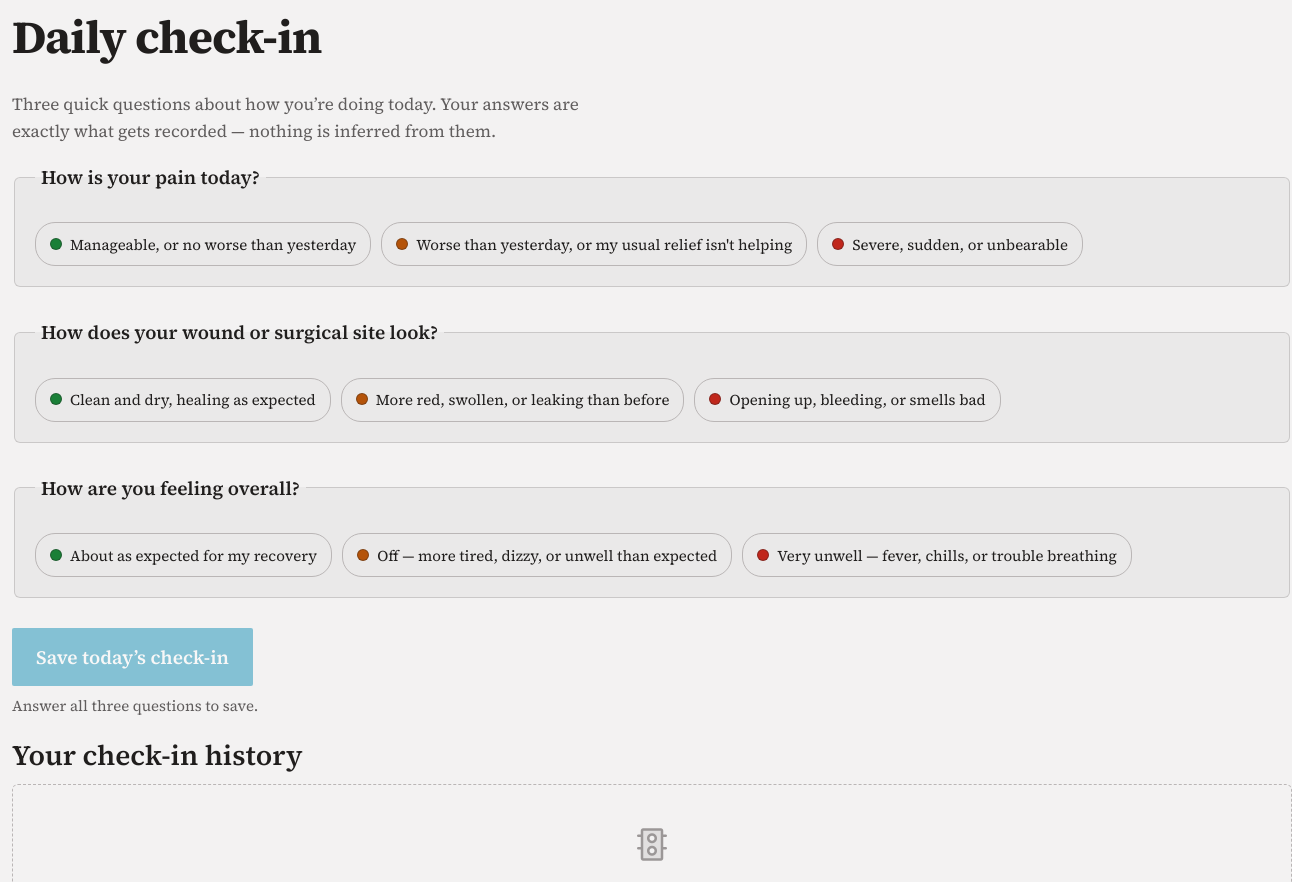
Test case: CheckIn screen › keeps save disabled until every question is answered
Expected: the button "Save today’s check-in" is disabled, [12,628,253,686]
Click the button "Manageable, or no worse than yesterday": (203, 244) [35,222,371,266]
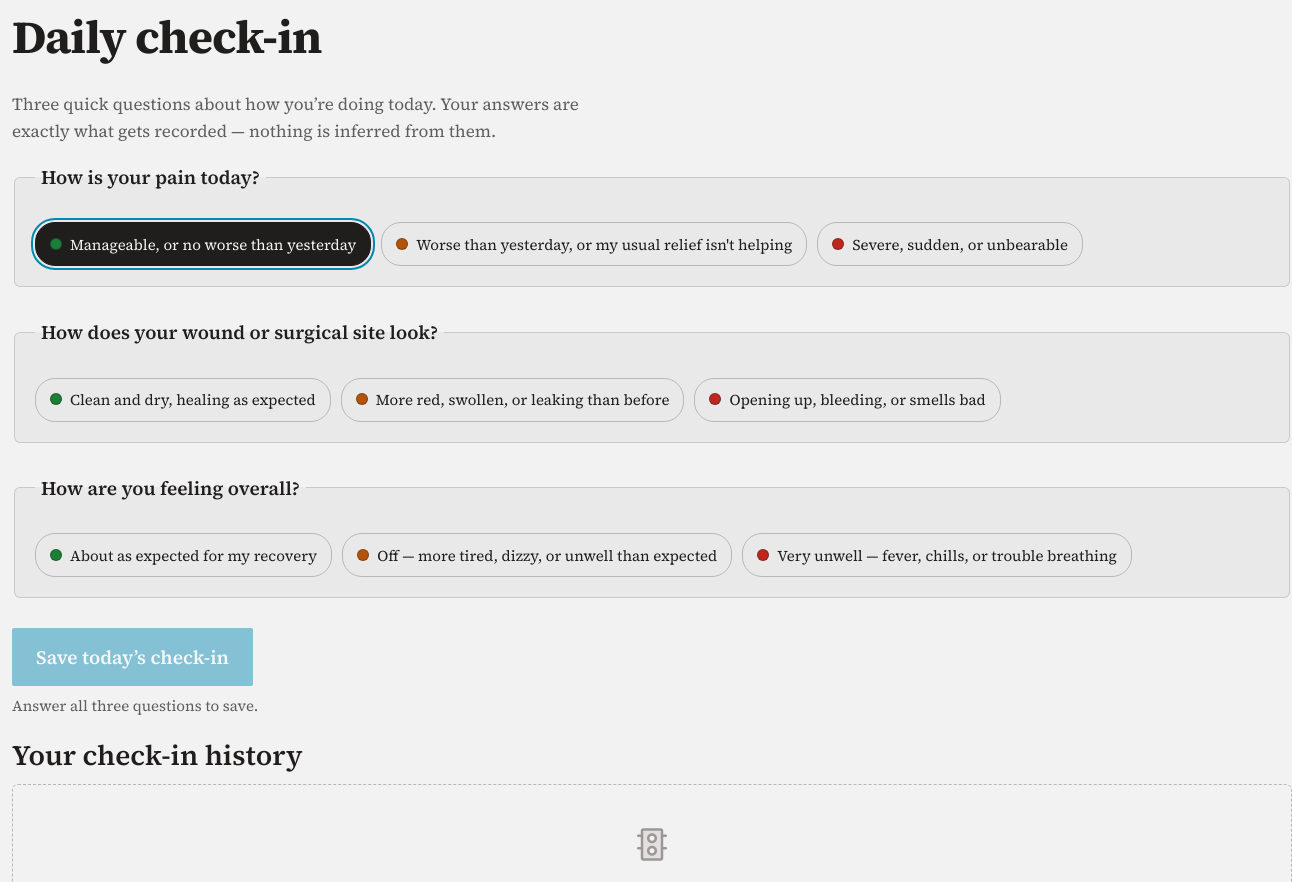
Expected: the button "Save today’s check-in" is disabled, [12,628,253,686]
Click the button "Clean and dry, healing as expected": (183, 400) [35,378,331,422]
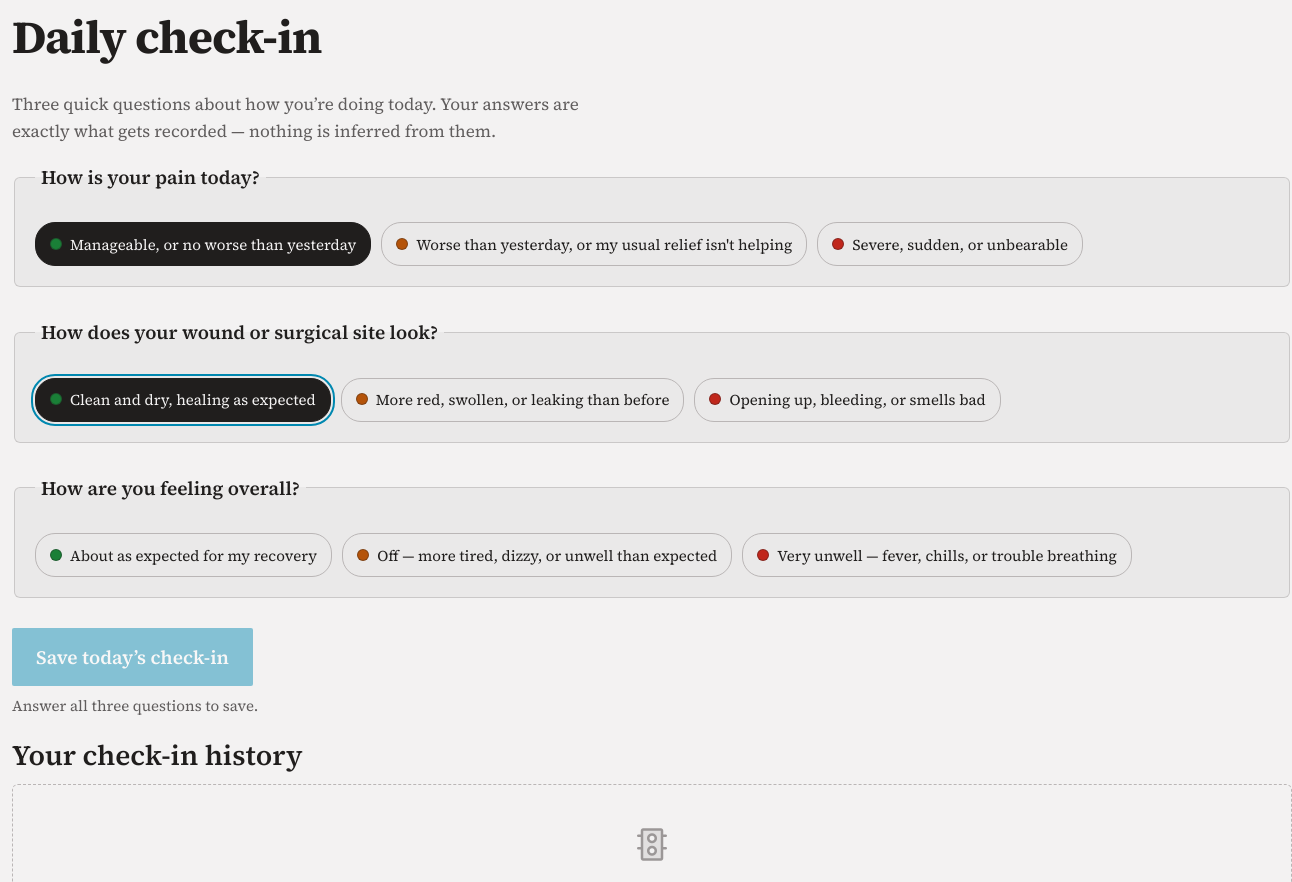
Click the button "About as expected for my recovery": (184, 555) [35,533,332,577]
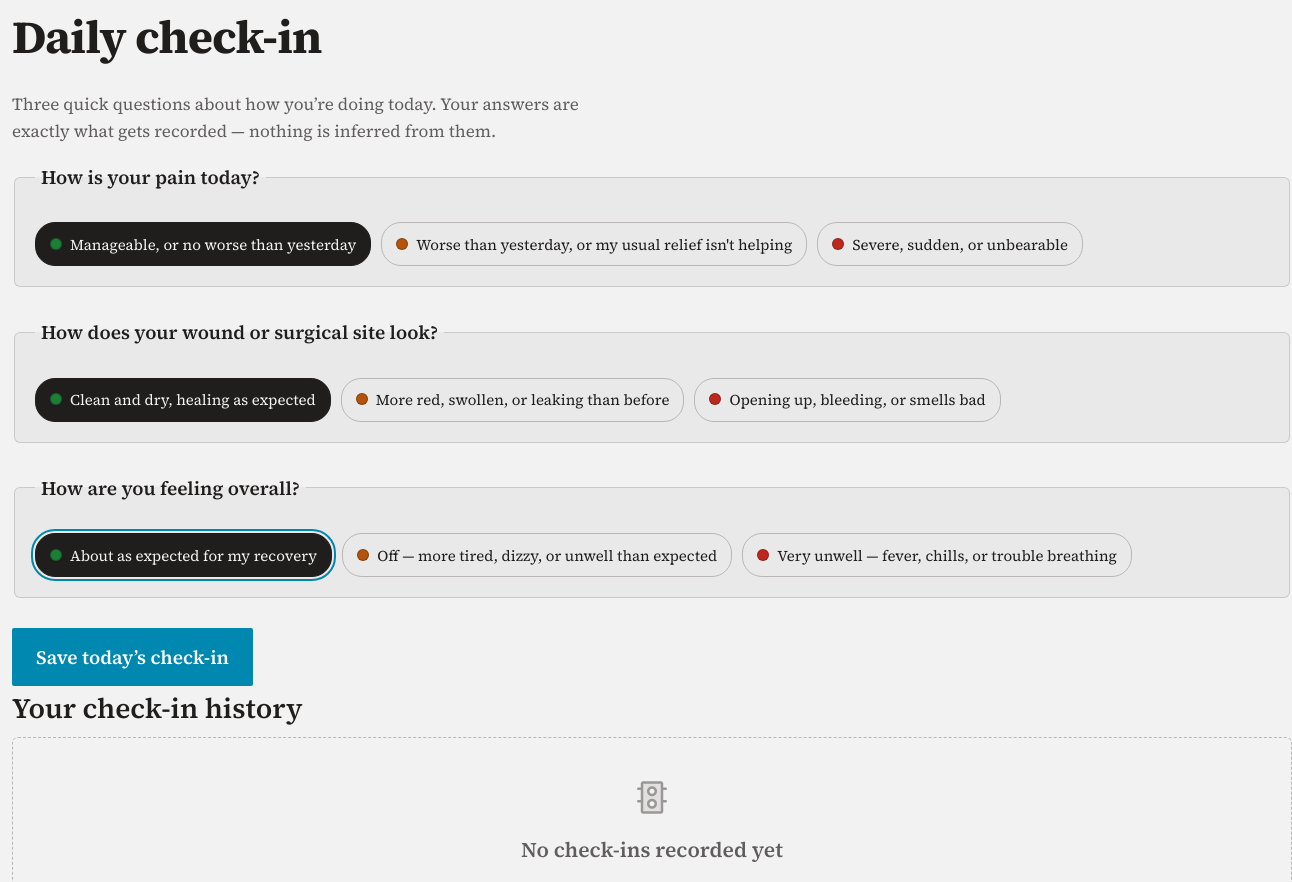
Expected: the button "Save today’s check-in" is enabled, [12,628,253,686]
